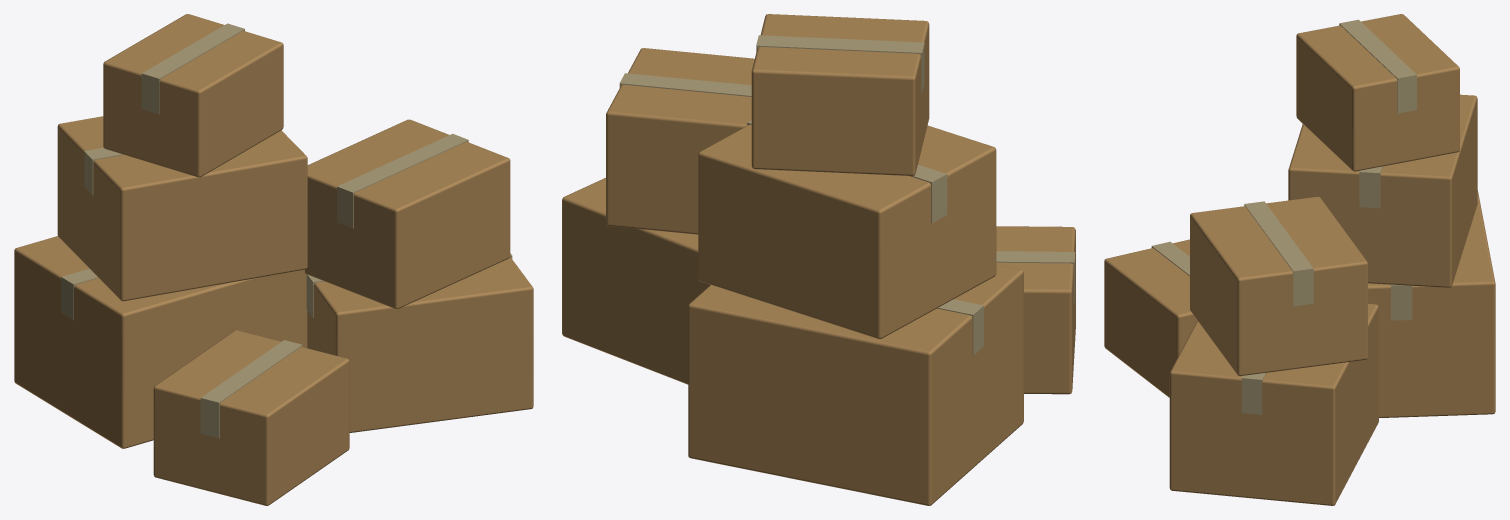
File: cardboard-boxes.glb
3 renders of one model, left to right at view 1: azimuth 30°, elevation 25°; view 2: azimuth 150°, elevation 25°; view 3: azimuth 270°, elevation 25°, orthographic. The views are drawn at different scales.
Visible parts, largest first — view 1: cardboard, paint-sand; view 2: cardboard, paint-sand; view 3: cardboard, paint-sand.
Boxes of the visible parts, x1=… form: cardboard: x1=14, y1=14, x2=533, y2=505; paint-sand: x1=61, y1=23, x2=512, y2=438; cardboard: x1=562, y1=14, x2=1075, y2=505; paint-sand: x1=619, y1=35, x2=1075, y2=355; cardboard: x1=1104, y1=14, x2=1495, y2=505; paint-sand: x1=1151, y1=19, x2=1416, y2=414.
Bounding box in the file's own units: 1.9 × 1.54 × 1.66.
